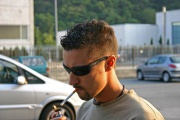male: (60, 27, 120, 104)
